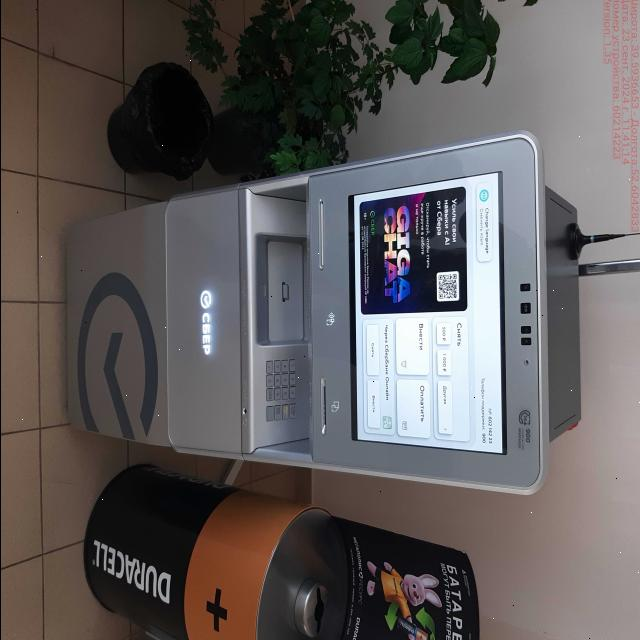bank: (58, 130, 580, 496)
